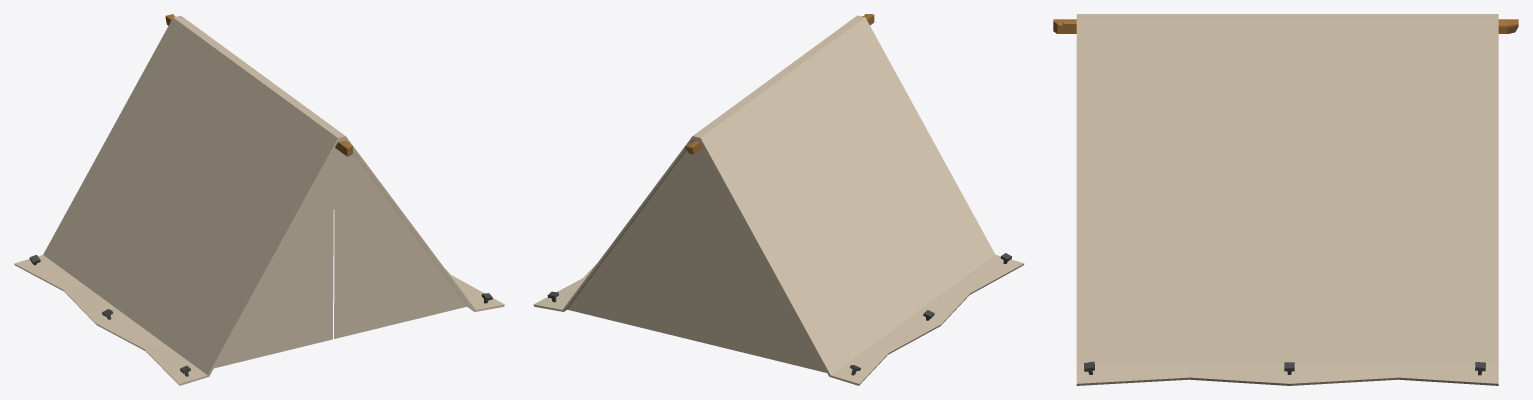
The model's file is Tent.fbx.
The picture shows the model from 3 angles, left to right: view 1: azimuth 30°, elevation 25°; view 2: azimuth 150°, elevation 25°; view 3: azimuth 270°, elevation 25°; orthographic projection. The views are drawn at different scales.
Parts seen in each view (by area): view 1: Tent; view 2: Tent; view 3: Tent.
Boxes of the visible parts, bbox=[...] form: Tent: bbox=[14, 14, 504, 385]; Tent: bbox=[533, 14, 1024, 385]; Tent: bbox=[1053, 14, 1518, 385].
Bounding box in the file's own units: 270 × 261 × 167.
